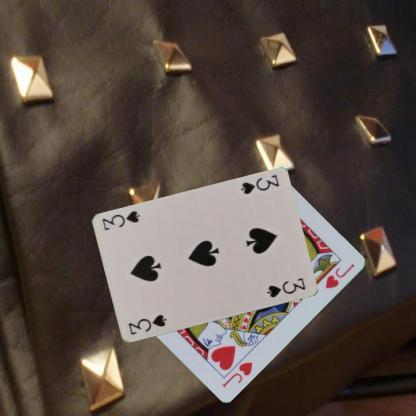3s: (126, 312, 168, 337), (238, 172, 280, 196)
Jh: (220, 358, 254, 388)
